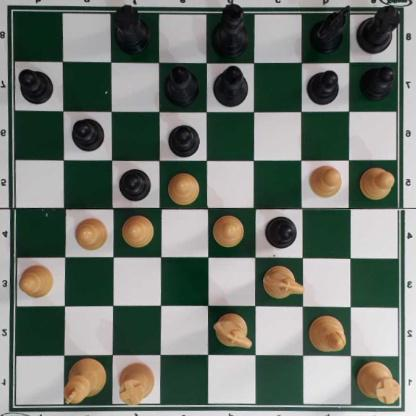black-bishop: (213, 65, 250, 106), (163, 65, 200, 105)
black-king: (211, 1, 250, 58)
black-knight: (310, 6, 351, 51)
black-pawn: (18, 67, 54, 104), (306, 69, 341, 105), (361, 64, 396, 99), (72, 116, 105, 152), (168, 123, 202, 157), (119, 166, 151, 201), (265, 216, 297, 248)
black-rook: (356, 1, 402, 53), (113, 4, 152, 53)
white-bishop: (308, 314, 348, 354)
white-king: (64, 356, 107, 406)
white-knight: (263, 264, 304, 299), (212, 314, 254, 347)
white-pawn: (19, 263, 56, 299), (75, 215, 109, 251), (167, 170, 203, 203), (359, 166, 395, 199), (309, 164, 343, 198), (212, 214, 246, 248), (122, 213, 155, 247)
white-rook: (357, 360, 402, 403), (118, 363, 155, 405)
